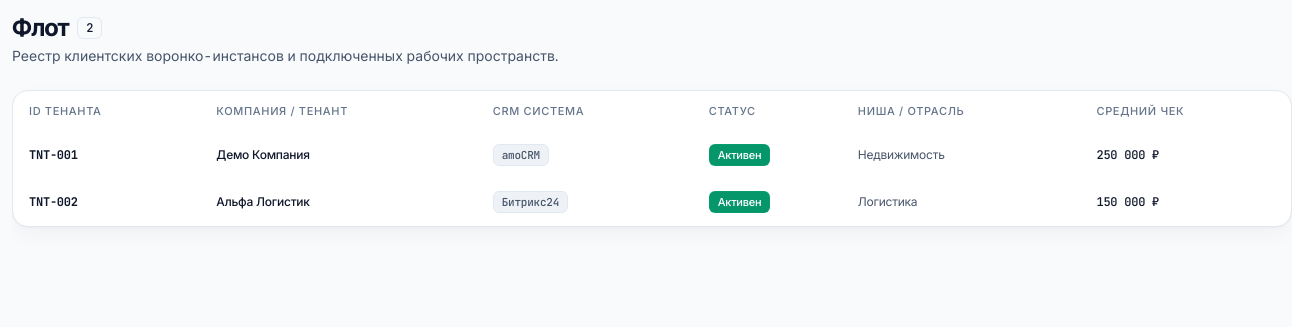
FleetPage › updates activeTenantId when a tenant row is clicked
Click the text "Альфа Логистик". click: (263,202)
box: [216,194,310,209]
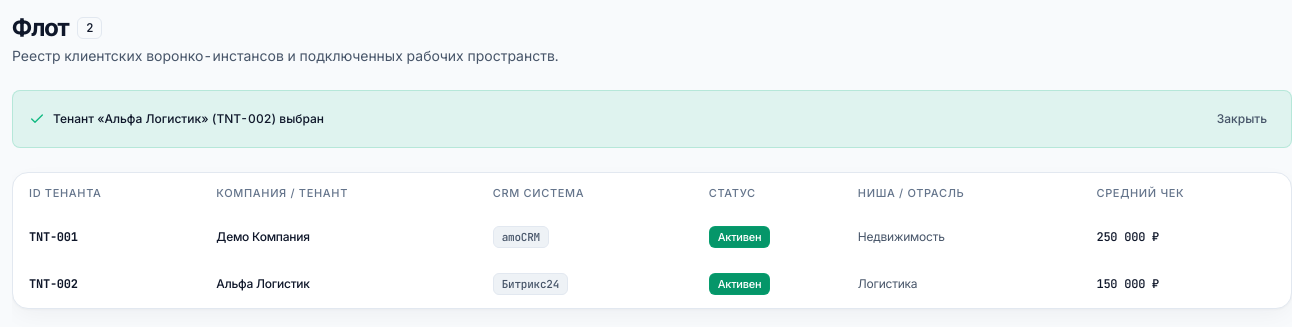
Check: the text "TNT-002" is shown, box [29,276,78,292]
Check: the message with test id "tenant-selected-alert" shows "Тенант «Альфа Логистик» (TNT-002) выбран", box [53,111,324,126]
